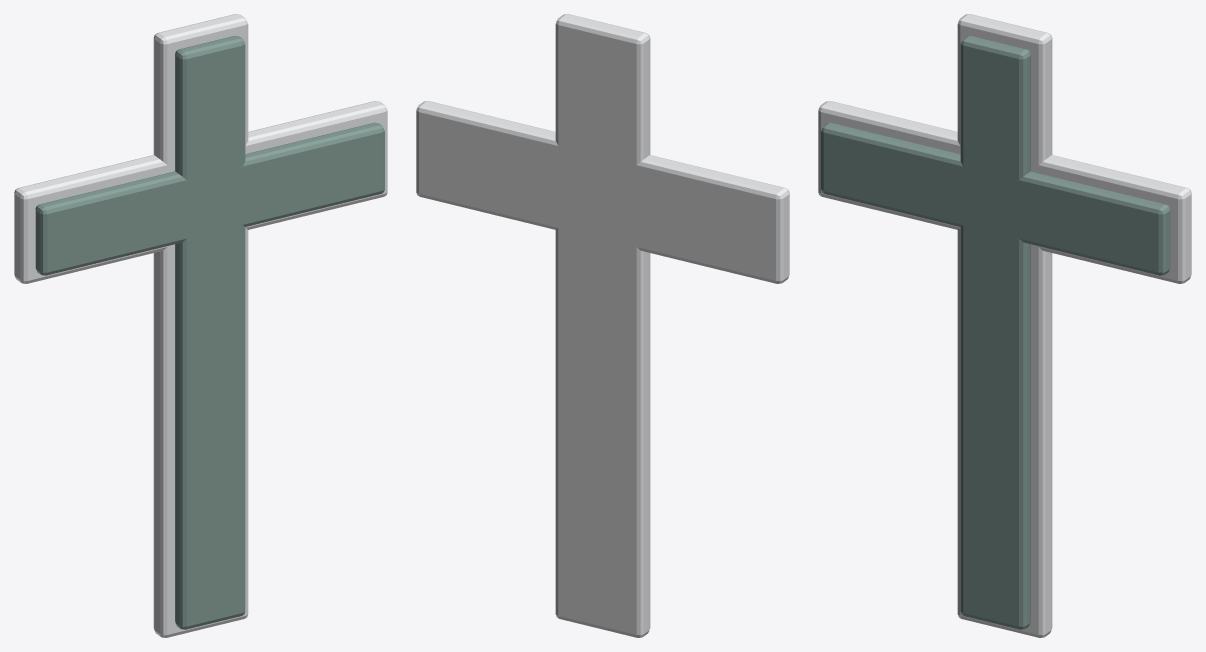
The model's file is cross.glb.
The picture shows the model from 3 angles, left to right: view 1: azimuth 30°, elevation 25°; view 2: azimuth 150°, elevation 25°; view 3: azimuth 330°, elevation 25°; orthographic projection.
Visible parts, largest first — view 1: Cube.002, Cube; view 2: Cube; view 3: Cube.002, Cube.
Part boxes in pixels (x1,y1,x2,y2): Cube.002: (35, 36, 384, 629); Cube: (14, 14, 387, 637); Cube: (416, 14, 789, 637); Cube.002: (821, 36, 1170, 629); Cube: (818, 14, 1191, 637).
Size of the model in its own units: 2.3 by 3.6 by 0.21.
